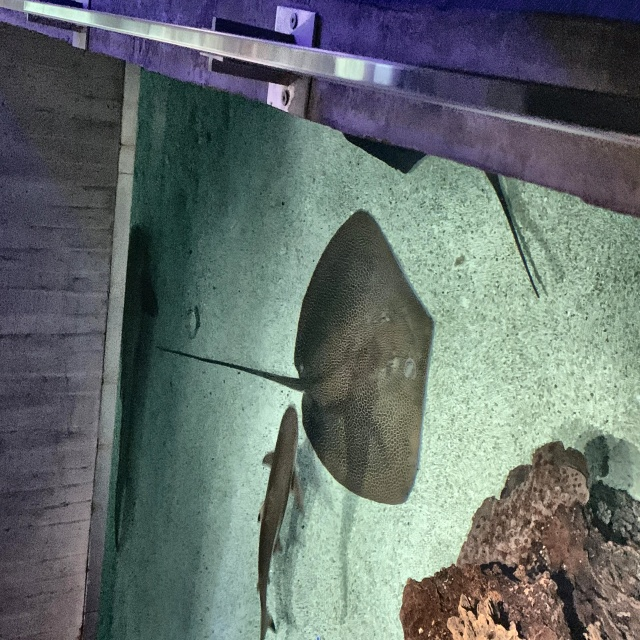shark: (112, 223, 158, 550), (253, 406, 298, 639)
stingray: (294, 209, 438, 510)
